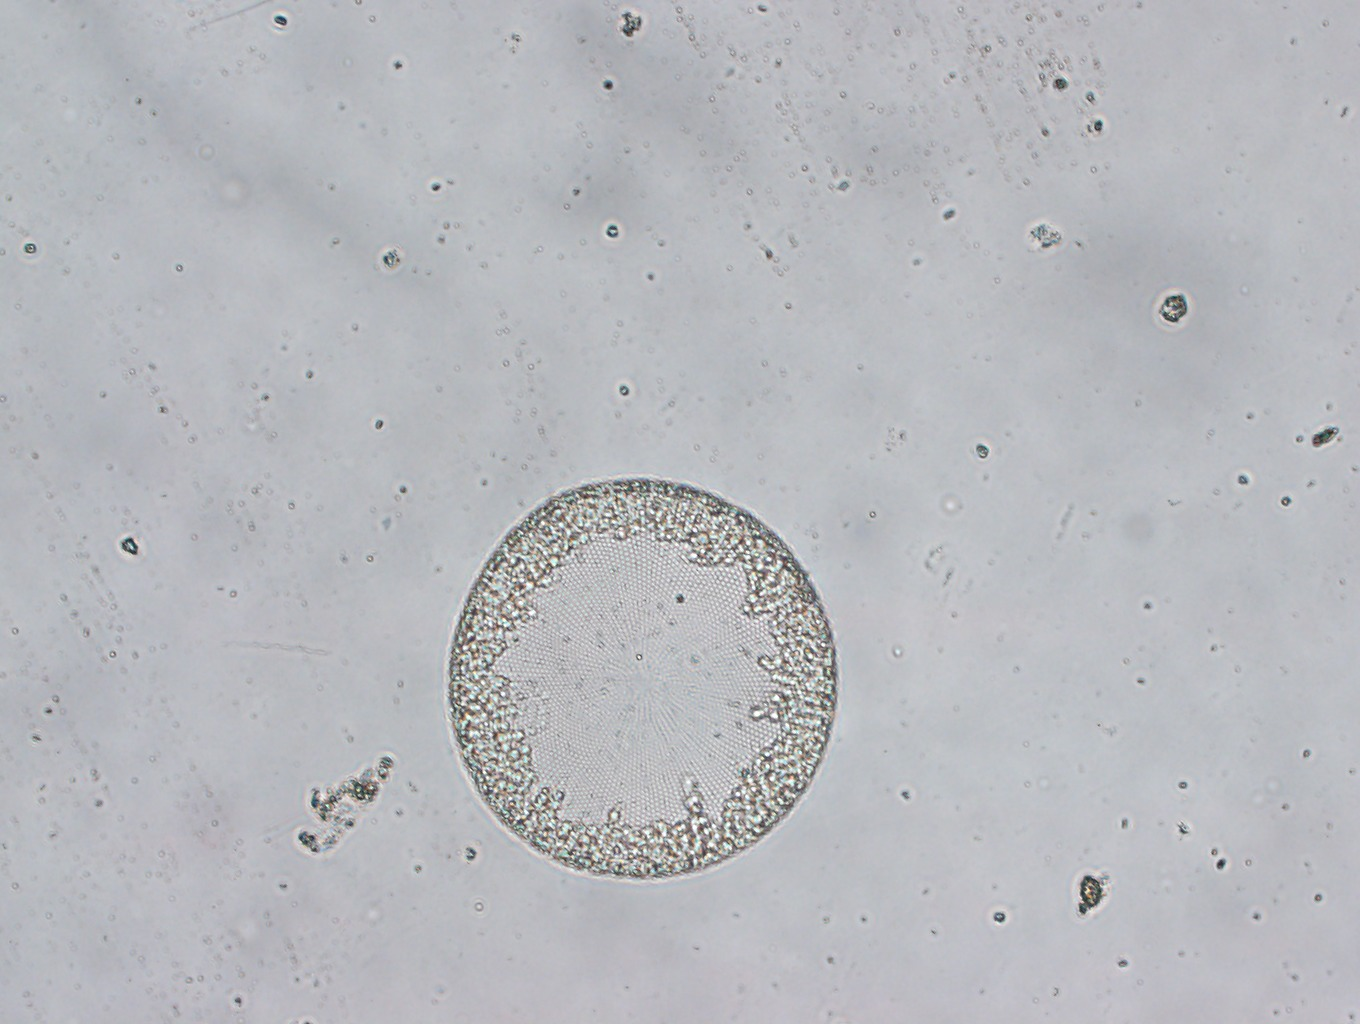coscinodiscus: (444, 478, 842, 882)
